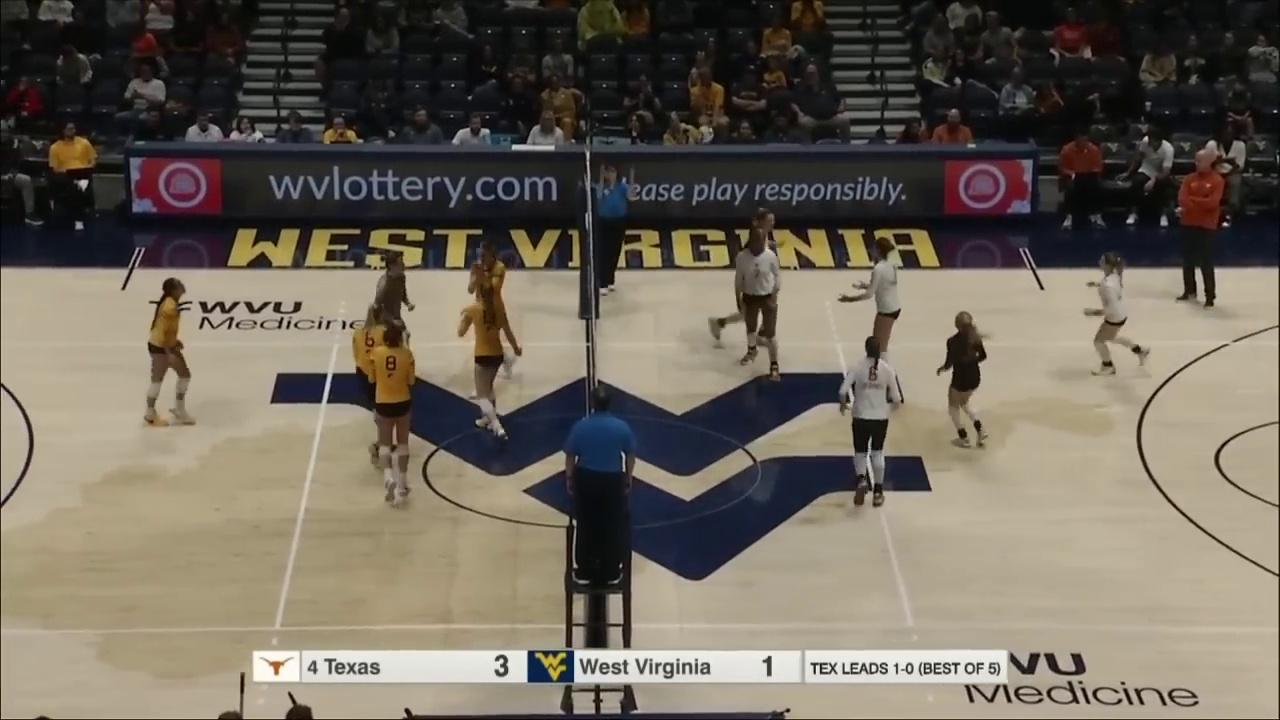player: (838, 336, 903, 503), (709, 207, 781, 345), (840, 237, 901, 395), (460, 283, 517, 442), (1084, 255, 1152, 379), (369, 326, 415, 502), (351, 305, 401, 466), (143, 277, 194, 425), (735, 230, 785, 378), (938, 312, 991, 446), (467, 241, 517, 380), (373, 251, 417, 389)
refree: (565, 385, 635, 581), (594, 163, 636, 296)
